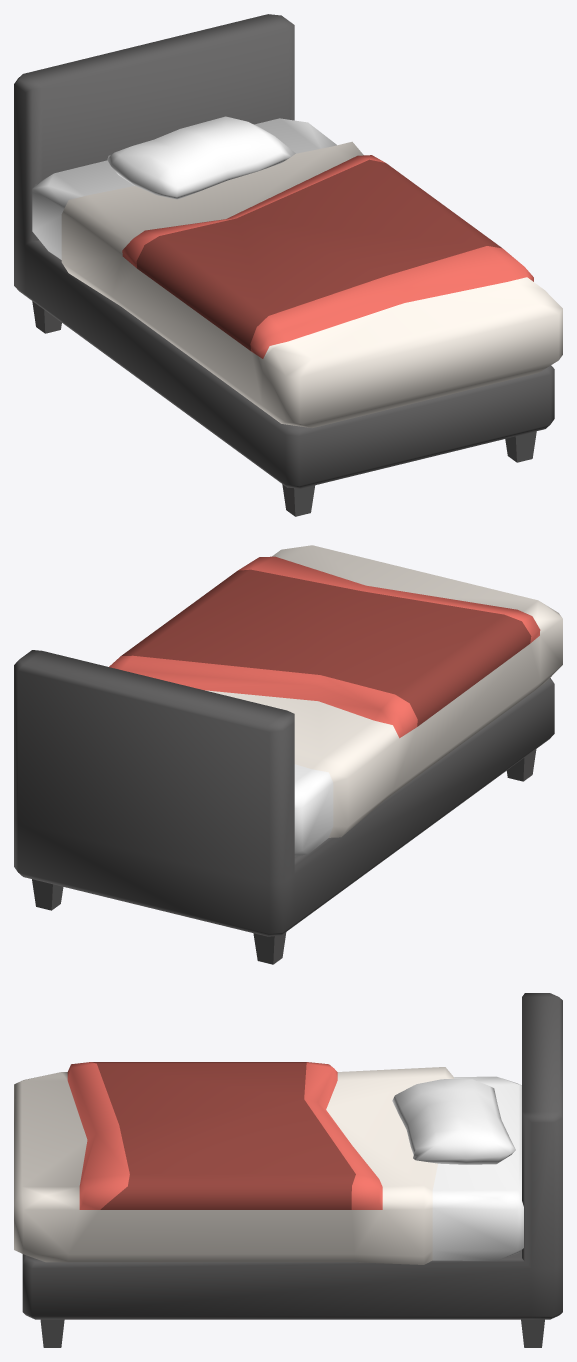
File: SM_Prop_Bed_Single_04.obj
3 renders of one model, top to bottom at view 1: azimuth 30°, elevation 25°; view 2: azimuth 150°, elevation 25°; view 3: azimuth 270°, elevation 25°, orthographic. The views are drawn at different scales.
Parts seen in each view (by area): view 1: SM_Prop_Bed_Single_04_Mat_SwatchOverlay_PolygonTown_01_Inst; view 2: SM_Prop_Bed_Single_04_Mat_SwatchOverlay_PolygonTown_01_Inst; view 3: SM_Prop_Bed_Single_04_Mat_SwatchOverlay_PolygonTown_01_Inst.
Boxes of the visible parts, x1,y1,x2,y2 form: SM_Prop_Bed_Single_04_Mat_SwatchOverlay_PolygonTown_01_Inst: (14, 14, 562, 516); SM_Prop_Bed_Single_04_Mat_SwatchOverlay_PolygonTown_01_Inst: (14, 545, 562, 964); SM_Prop_Bed_Single_04_Mat_SwatchOverlay_PolygonTown_01_Inst: (14, 993, 562, 1347).
Bounding box in the file's own units: 1.51 × 1.25 × 2.61.
1 material, 1 textured.
